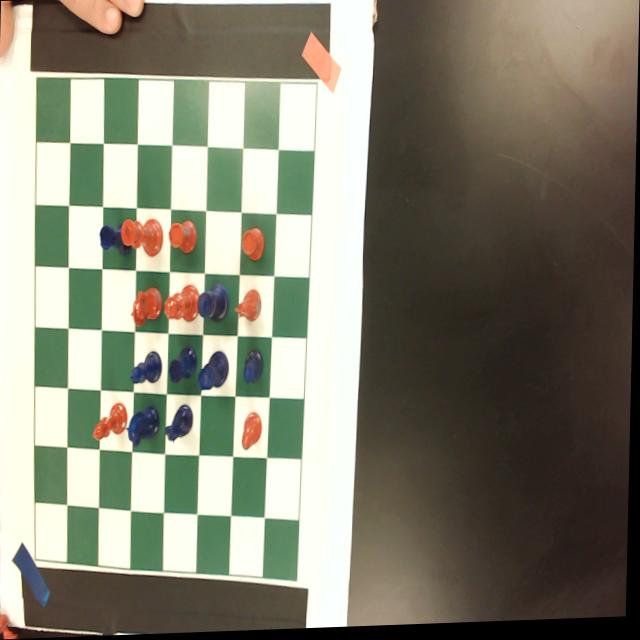B: (130, 349, 164, 389), (243, 349, 266, 389)
K: (197, 285, 230, 325)
N: (127, 403, 161, 450), (164, 404, 196, 446)
Q: (198, 349, 232, 393)
R: (167, 345, 198, 387), (98, 224, 132, 257)
b: (93, 402, 128, 443), (242, 412, 264, 452)
k: (120, 216, 164, 259)
n: (131, 285, 163, 329), (235, 290, 262, 325)
q: (165, 285, 199, 326)
r: (168, 218, 199, 256), (242, 227, 266, 264)
